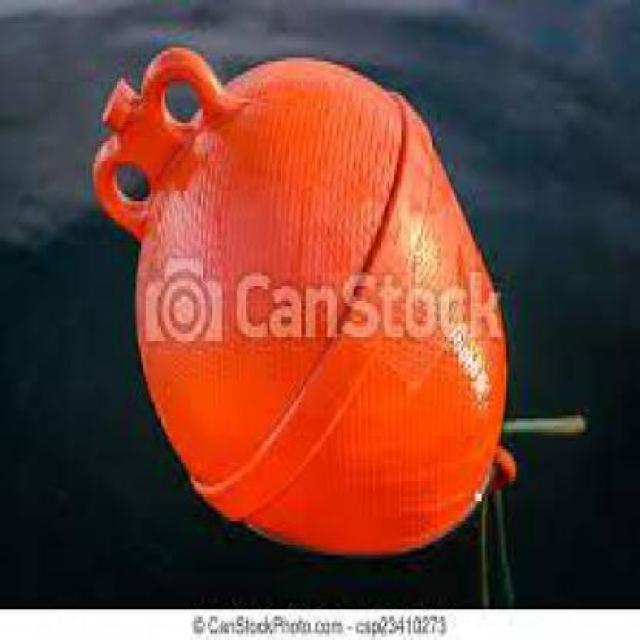a: (82, 35, 543, 570)
